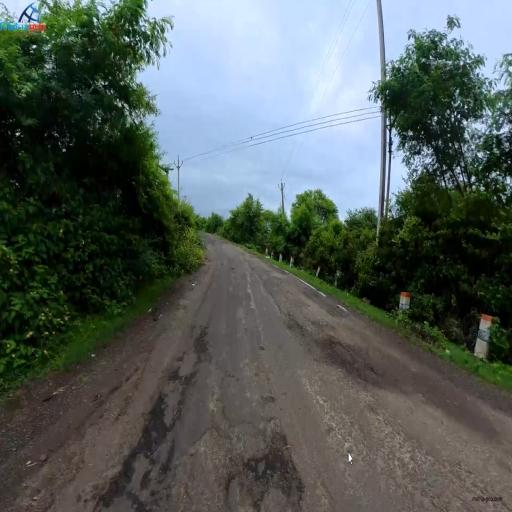ravelling: (110, 309, 306, 495)
